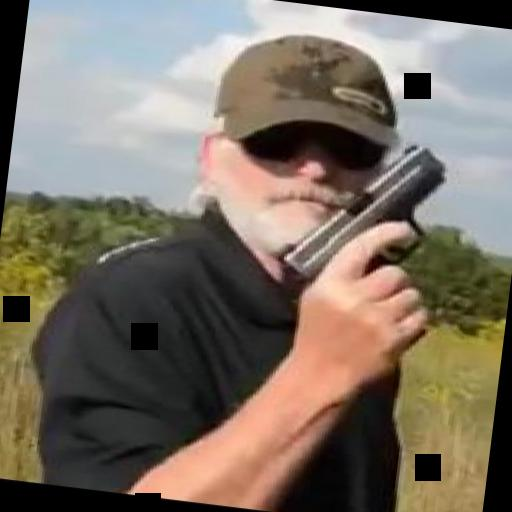Handgun: (273, 128, 465, 342)
